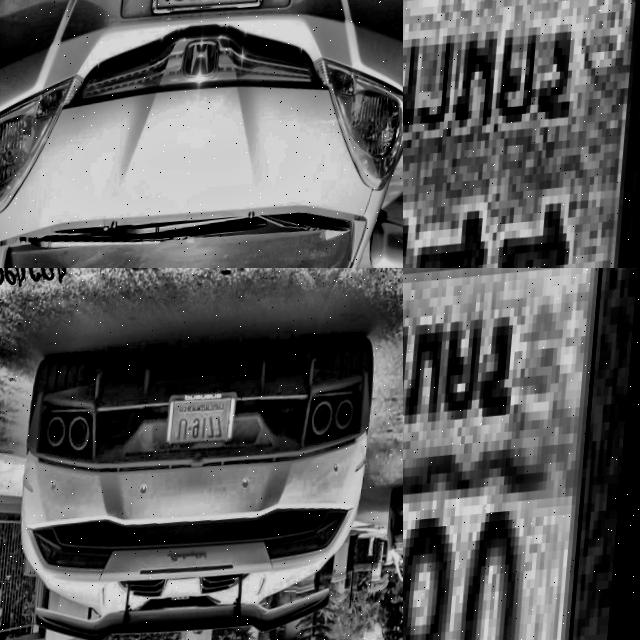license-plate: (403, 268, 640, 640), (403, 0, 640, 268), (170, 403, 239, 456), (151, 0, 276, 28)
